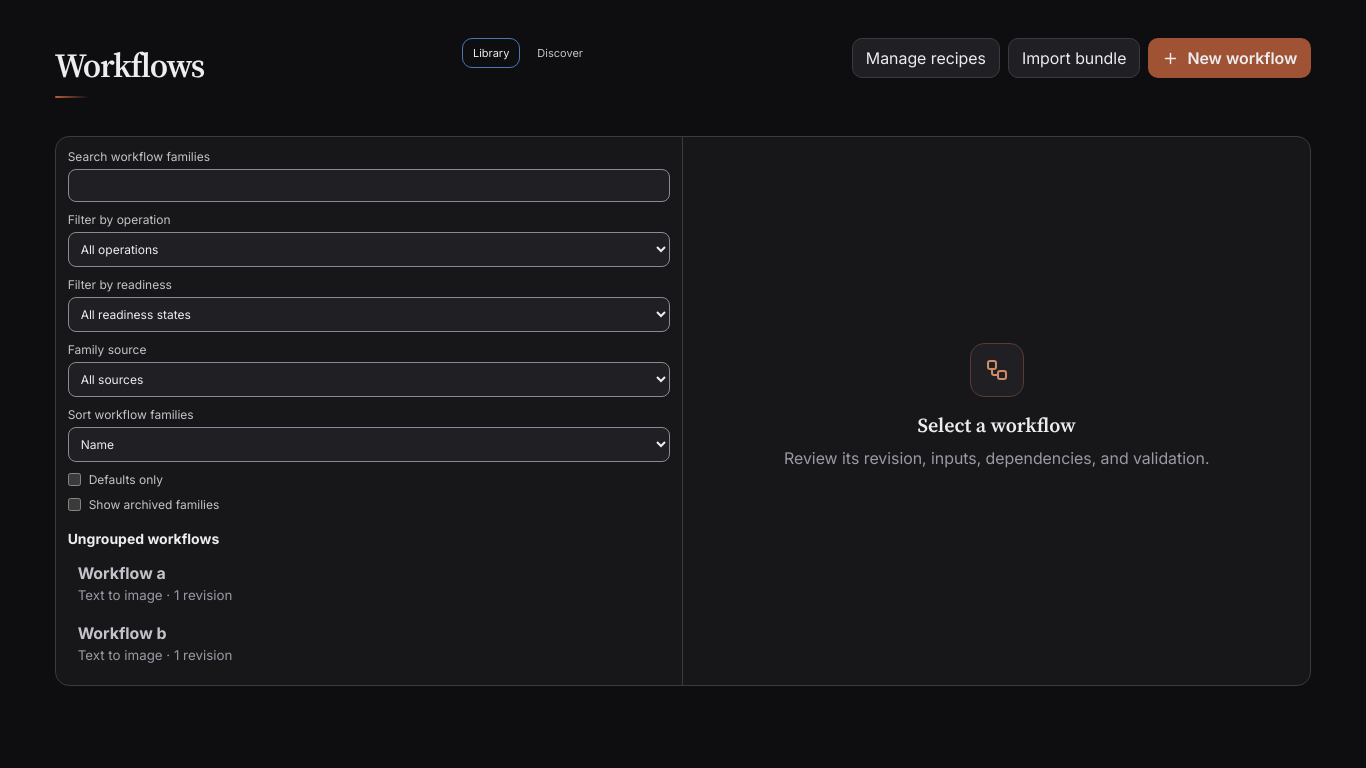
Test case: archiving workflow families from the page › does not offer family archival for an ungrouped workflow
Click the text "Workflow a": [122, 573] box [78,563,166,583]
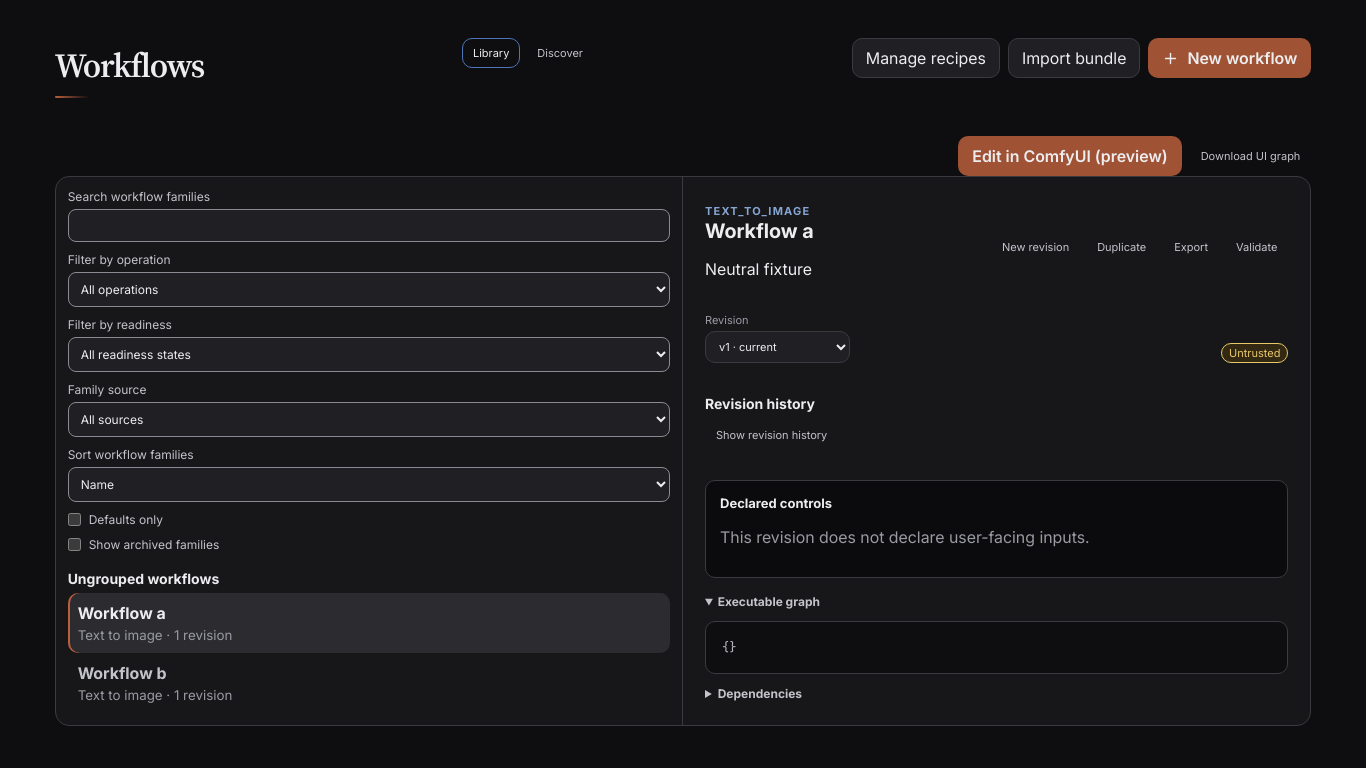
Expected: the button "New revision" is shown, [991,232,1080,262]
